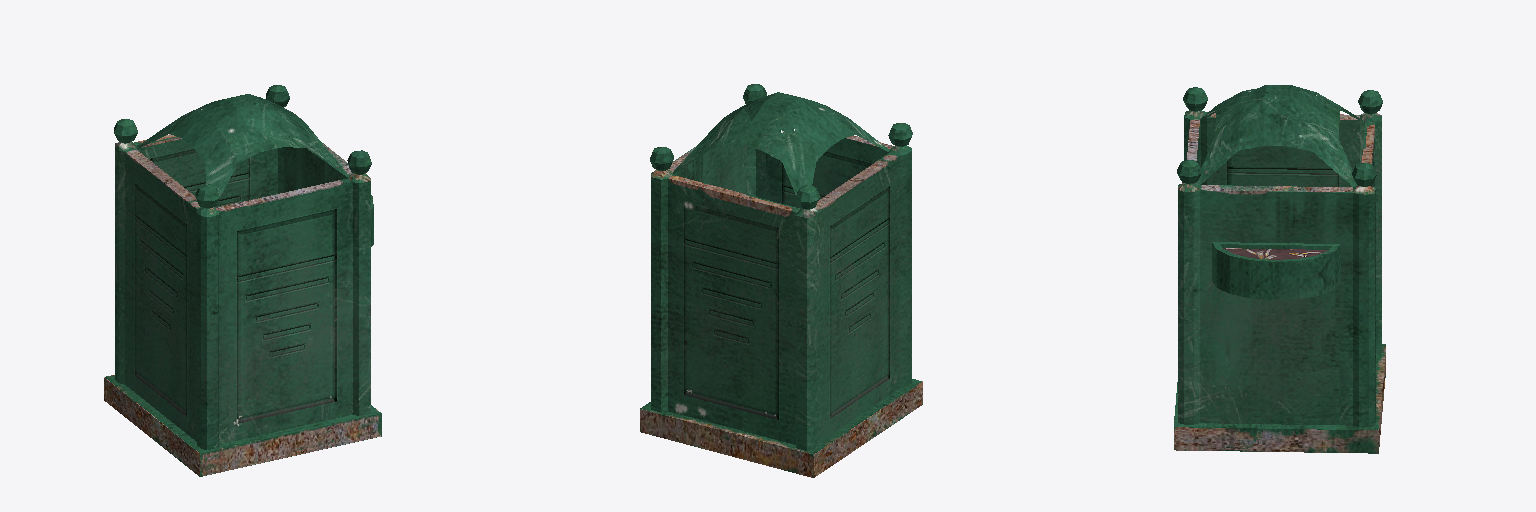
The picture shows the model from 3 angles: view 1: azimuth 30°, elevation 25°; view 2: azimuth 150°, elevation 25°; view 3: azimuth 270°, elevation 25°; orthographic projection.
Visible parts, largest first — view 1: TrashCan; view 2: TrashCan; view 3: TrashCan.
Boxes of the visible parts, <box> form: TrashCan: <box>104,85,381,476</box>; TrashCan: <box>640,84,922,477</box>; TrashCan: <box>1174,85,1385,453</box>.
Size of the model in its own units: 1.85 by 2.66 by 1.62.
Materials: 1 (1 with a texture image).